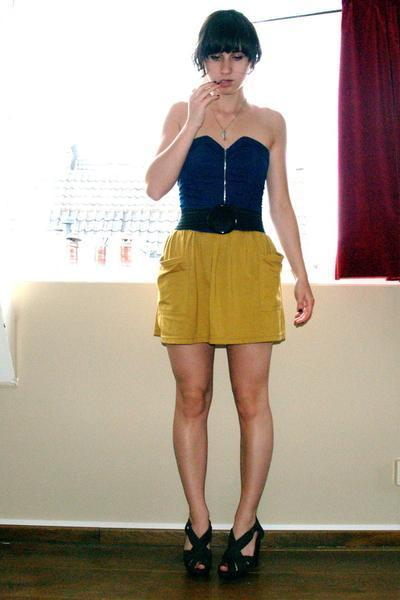shirt: (176, 136, 269, 211)
shoe: (183, 519, 259, 582)
skirt: (154, 230, 284, 347)
